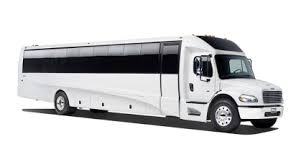bus: (18, 34, 284, 134)
